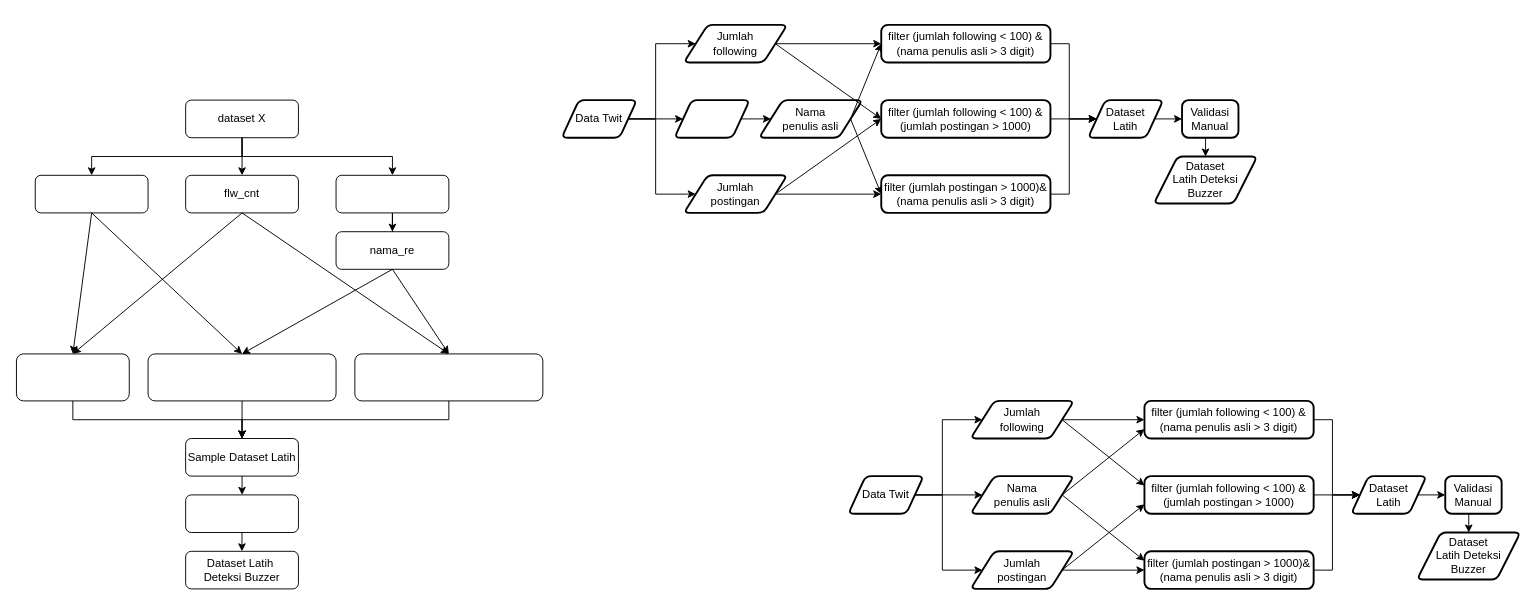
The diagram is 1538 pixels wide and 605 high, and some of its shapes have lost their labels. Here are the shapes that lost their labels. From the top down, the centre of each, then its label:
At (711,118): "Teks twit".
At (91,193): "sts_cnt".
At (392,193): "content".
At (72,377): "filter (sts_cnt > 1000) & (flw_cnt < 100)".
At (241,377): "filter (nama_re contains >3digits) & (flw_cnt < 100)".
At (448,377): "filter (nama_re contains >3digits) & (sts_cnt > 1000)".
At (241,513): "Pengecekan manual".
